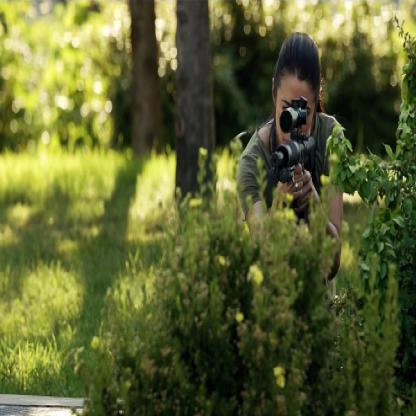Gun: (265, 93, 316, 222)
